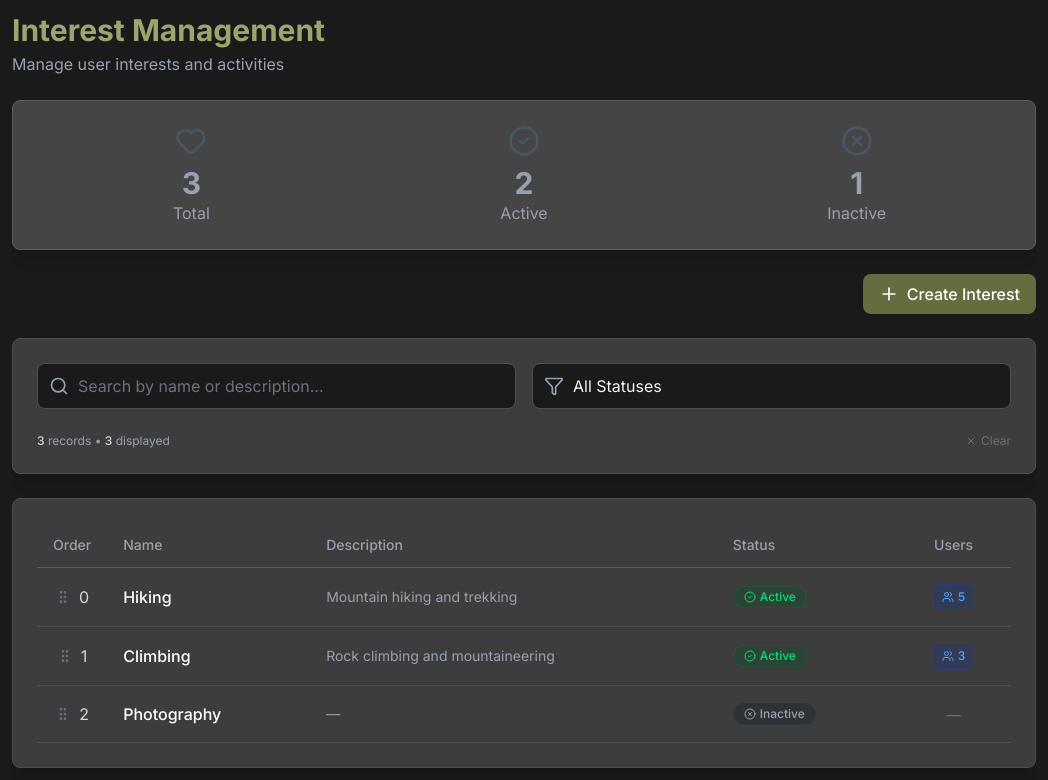
Test case: InterestManagement › Status Filtering › should filter by active status
Expected: the text "Hiking" is shown, [123,587,172,607]
Select "Active" in the dropdown: [772, 386] box [532,363,1011,409]
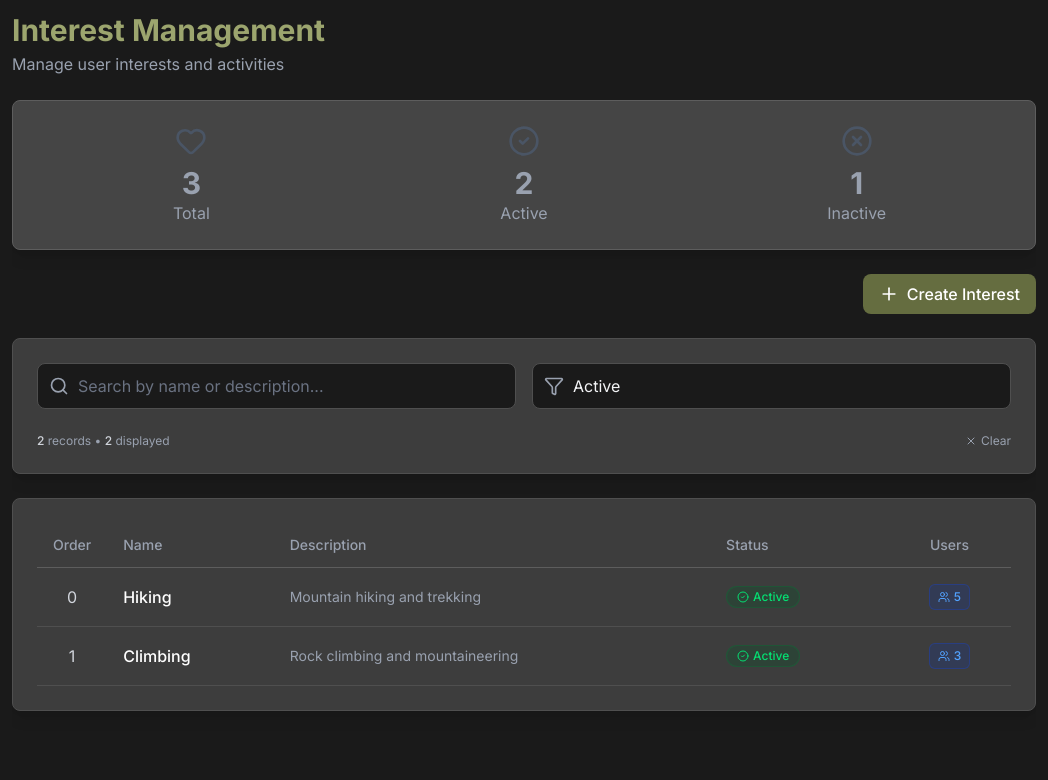
Expected: the text "Hiking" is shown, [123,587,172,607]
Expected: the text "Photography" is gone
